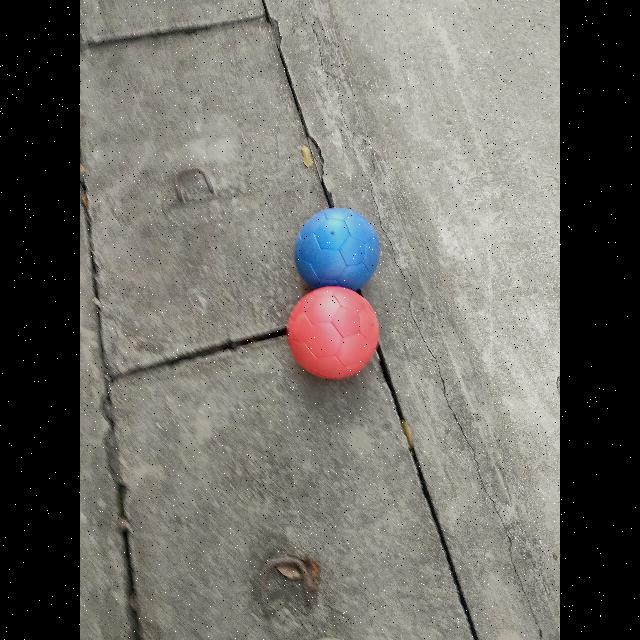B: (294, 208, 380, 290)
R: (287, 286, 378, 378)
